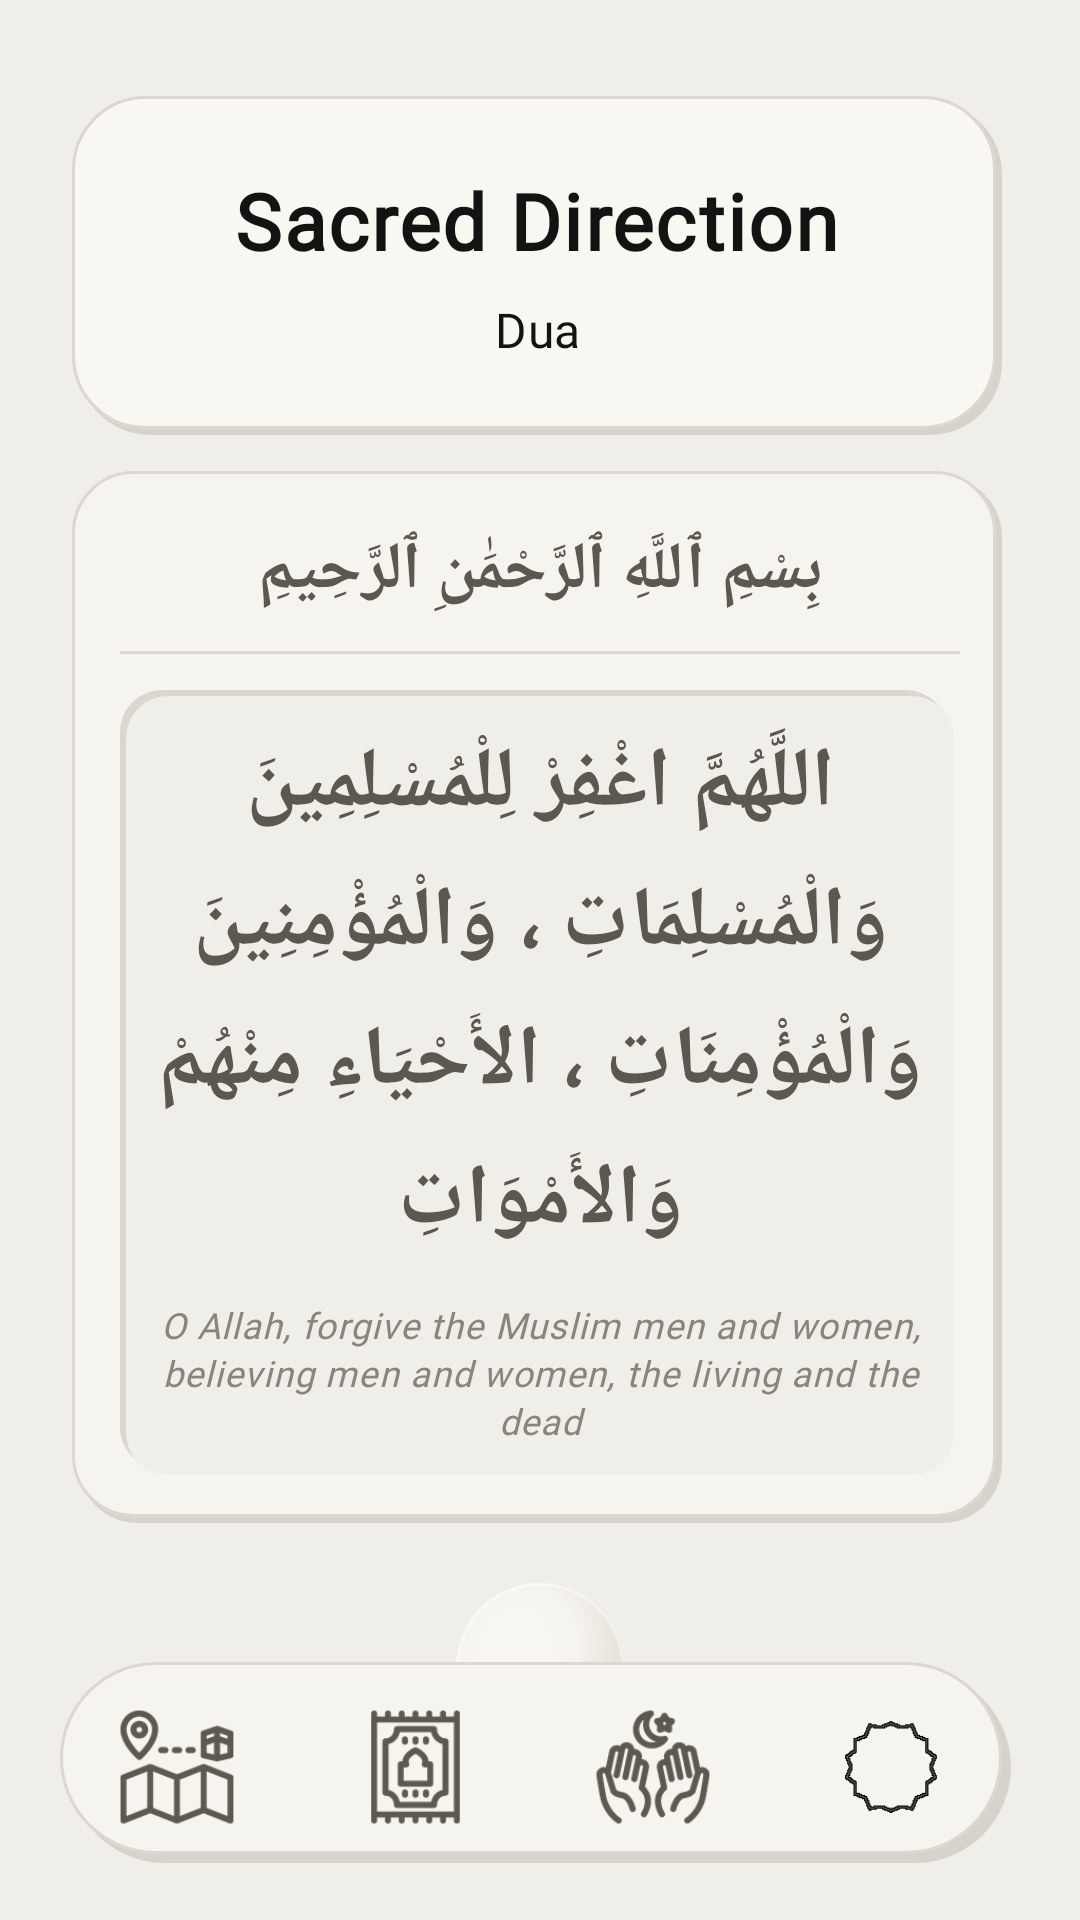

Where icons sit on this 1080*1920 app screen, as [x1=x1, y1=y1, x2=x2, y2=y2]:
Direction: [x1=120, y1=1710, x2=234, y2=1824]
Dua: [x1=596, y1=1710, x2=710, y2=1824]
Prayer times: [x1=371, y1=1710, x2=460, y2=1824]
